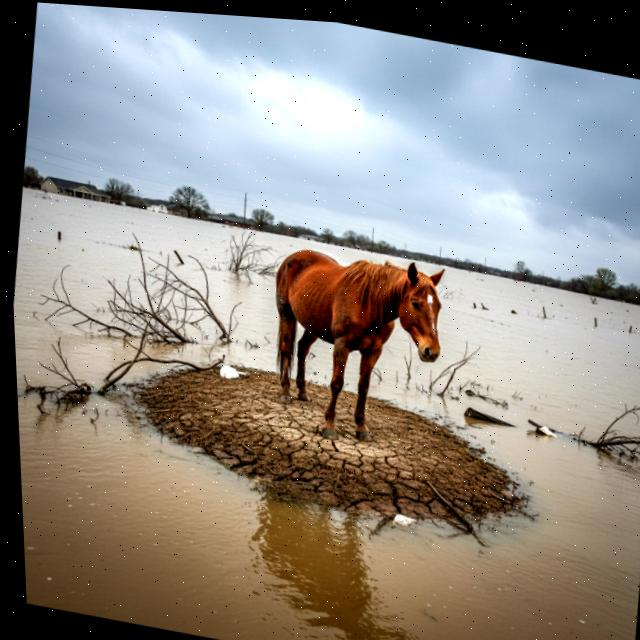horse: (232, 224, 466, 477)
